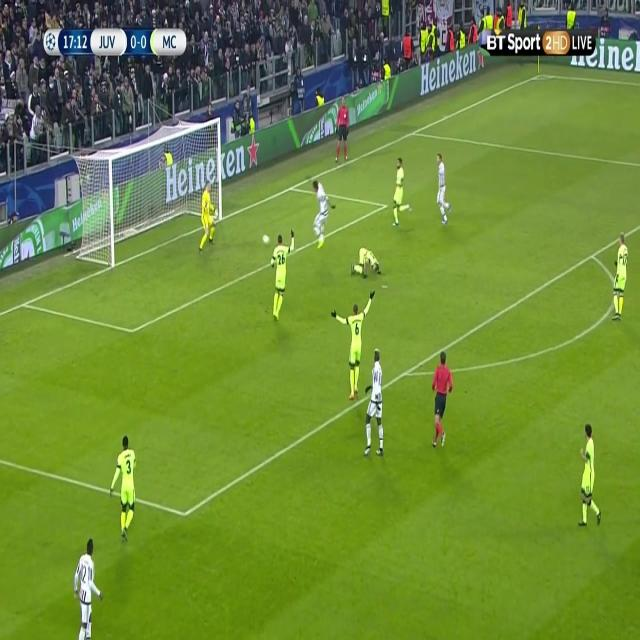Ball: (261, 228, 273, 250)
Goalkeeper: (196, 177, 220, 259)
Player: (331, 289, 377, 403), (109, 434, 139, 546), (575, 417, 604, 532), (72, 536, 104, 640), (362, 346, 388, 462), (270, 230, 296, 324), (309, 177, 337, 251), (391, 154, 417, 230), (610, 230, 630, 324), (433, 150, 454, 230), (350, 244, 382, 282)
Referee: (429, 348, 455, 454), (333, 94, 352, 166)
